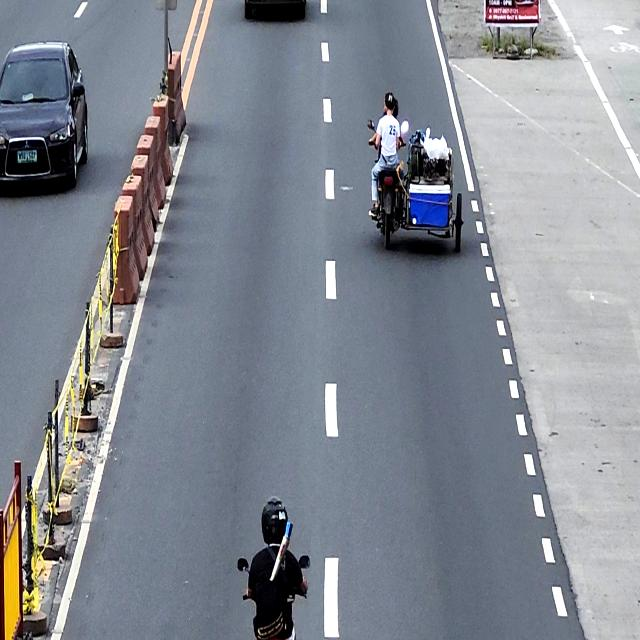Car: (0, 40, 88, 191)
License-Plate: (16, 148, 37, 164)
Motorcycle: (236, 555, 312, 640)
Tricycle: (366, 119, 464, 253)
